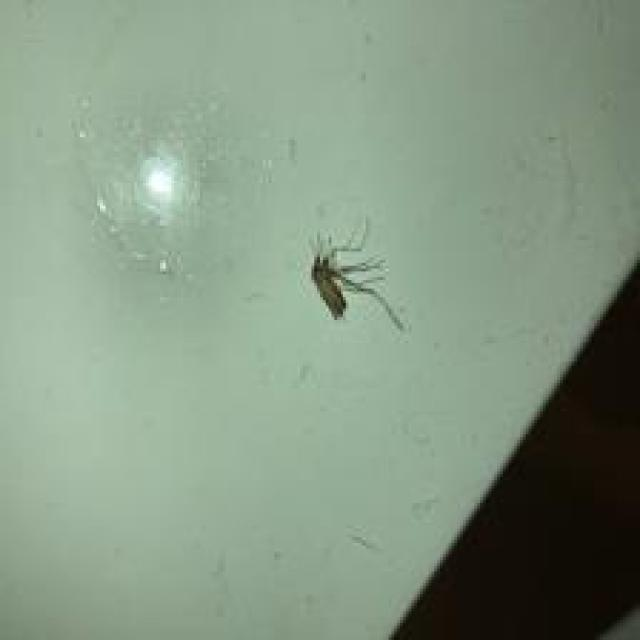Culex: (308, 216, 406, 333)
